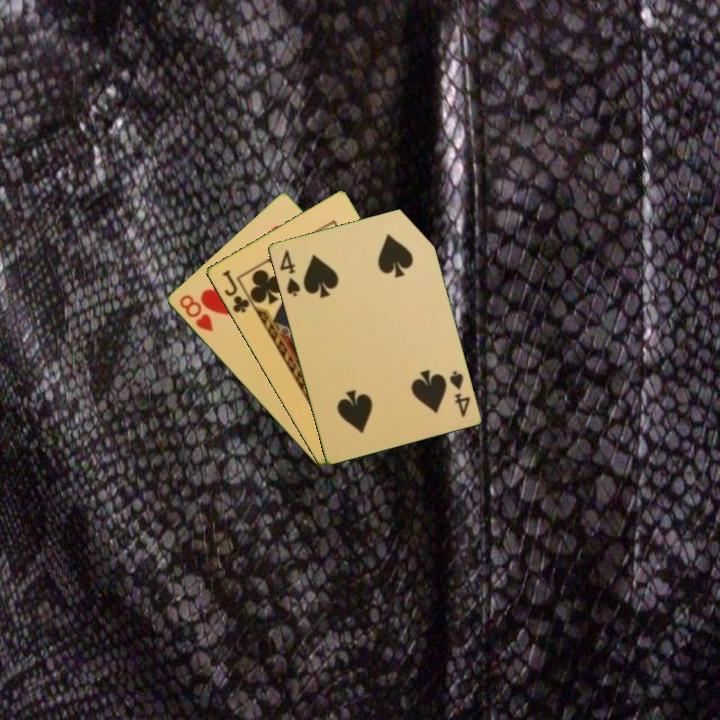4s: (445, 367, 473, 420), (276, 246, 303, 299)
8h: (175, 291, 216, 335)
Jc: (218, 266, 252, 316)
